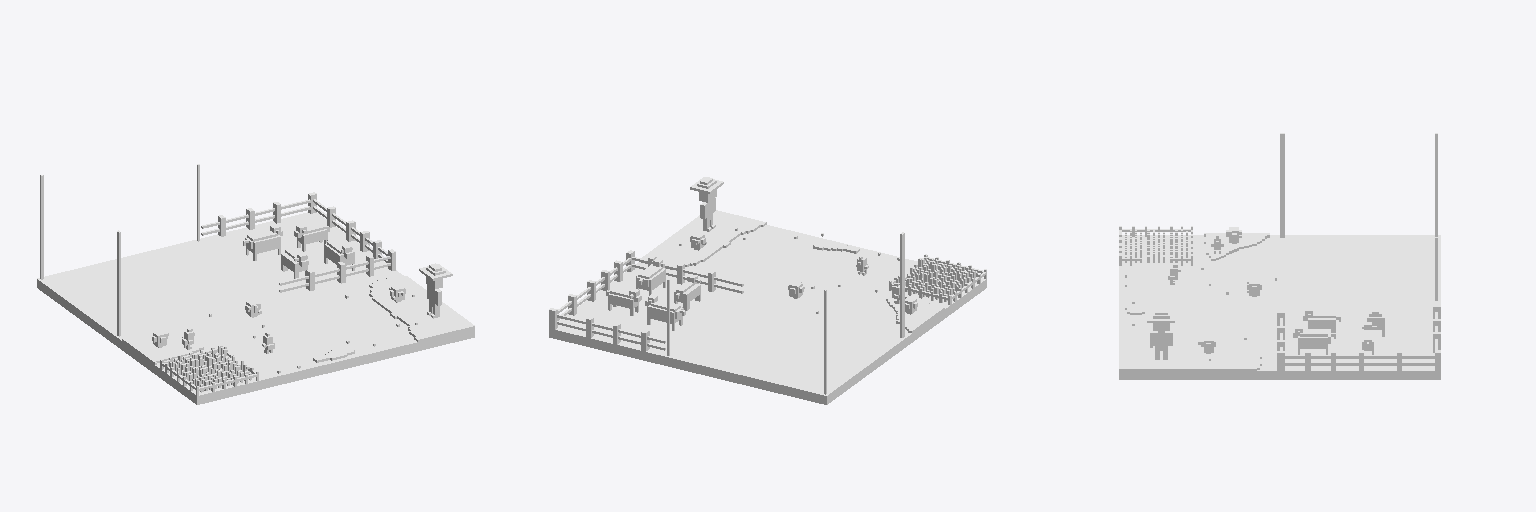
File: farm-7-granja.obj
3 views of the same model, side by side, from view 1: azimuth 30°, elevation 25°; view 2: azimuth 150°, elevation 25°; view 3: azimuth 270°, elevation 25° (orthographic).
Parts seen in each view (by area): view 1: granja; view 2: granja; view 3: granja.
Boxes of the visible parts, x1=… form: granja: x1=37, y1=164, x2=474, y2=404; granja: x1=549, y1=177, x2=986, y2=404; granja: x1=1119, y1=133, x2=1440, y2=379.
Bounding box in the file's own units: 12.6 × 4.9 × 12.6.